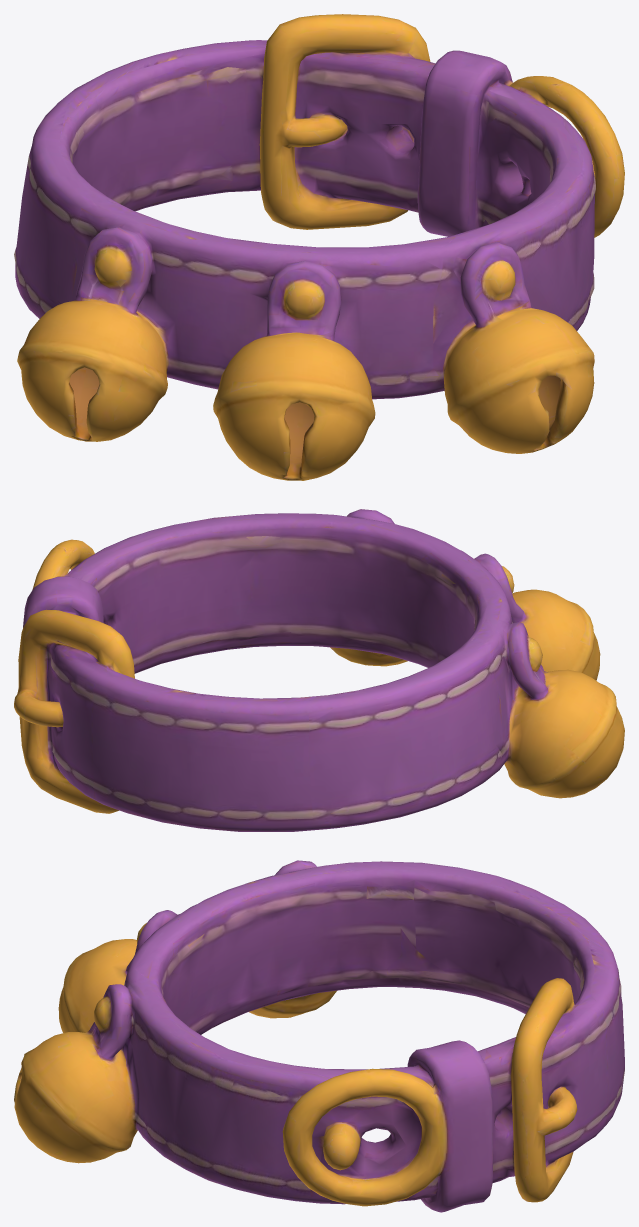
3 views of the same model, one above another, from view 1: azimuth 30°, elevation 25°; view 2: azimuth 150°, elevation 25°; view 3: azimuth 270°, elevation 25° (orthographic). The views are drawn at different scales.
Parts seen in each view (by area): view 1: bell-collar; view 2: bell-collar; view 3: bell-collar.
Boxes of the visible parts, x1,y1,x2,y2 form: bell-collar: (14,14,624,480); bell-collar: (14,509,624,831); bell-collar: (14,860,624,1212).
Size of the model in its own units: 0.3118 by 0.1082 by 0.3055.
Materials: 1 (1 with a texture image).
